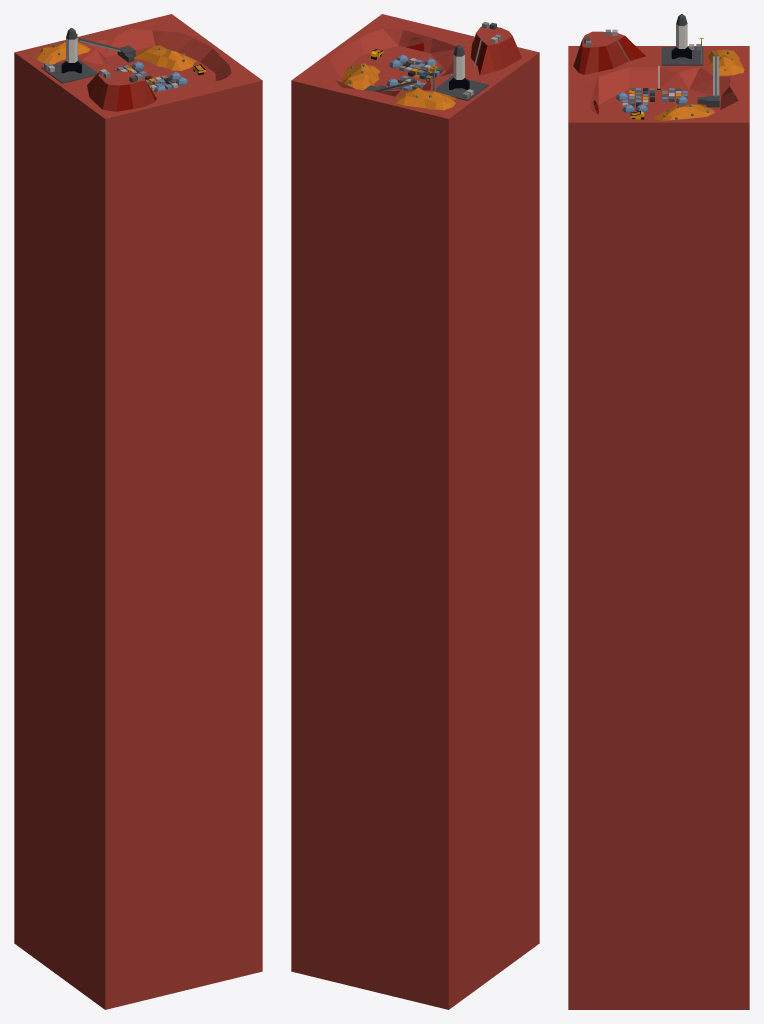
The model's file is Center.fbx.
3 renders of one model, left to right at view 1: azimuth 30°, elevation 25°; view 2: azimuth 150°, elevation 25°; view 3: azimuth 270°, elevation 25°, orthographic.
Visible parts, largest first — view 1: BottomPartOfMap, MainCenter; view 2: BottomPartOfMap, MainCenter; view 3: BottomPartOfMap, MainCenter.
Boxes of the visible parts, <box> form: BottomPartOfMap: <box>14,53,262,1009</box>; MainCenter: <box>14,14,262,118</box>; BottomPartOfMap: <box>291,53,539,1009</box>; MainCenter: <box>291,14,539,118</box>; BottomPartOfMap: <box>568,122,749,1009</box>; MainCenter: <box>568,14,749,122</box>.
Size of the model in its own units: 400 by 2267 by 400.
